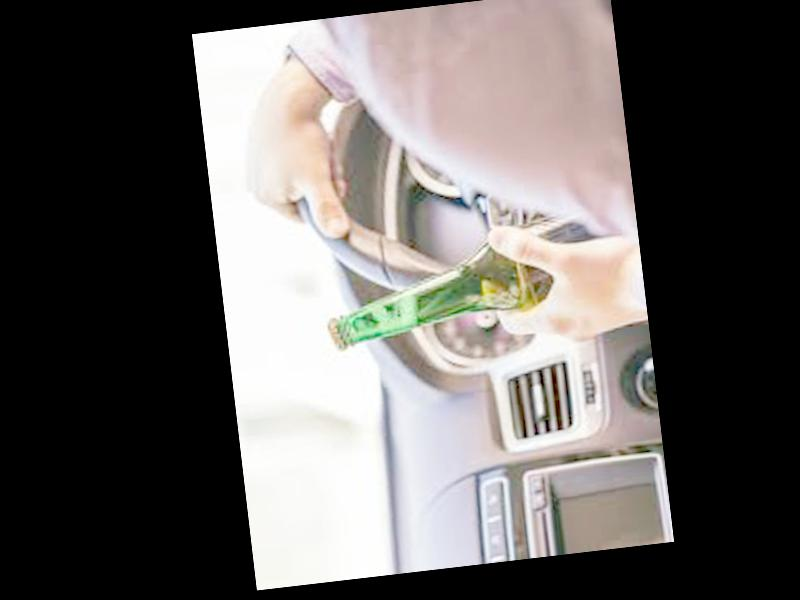Beer: (316, 211, 616, 353)
